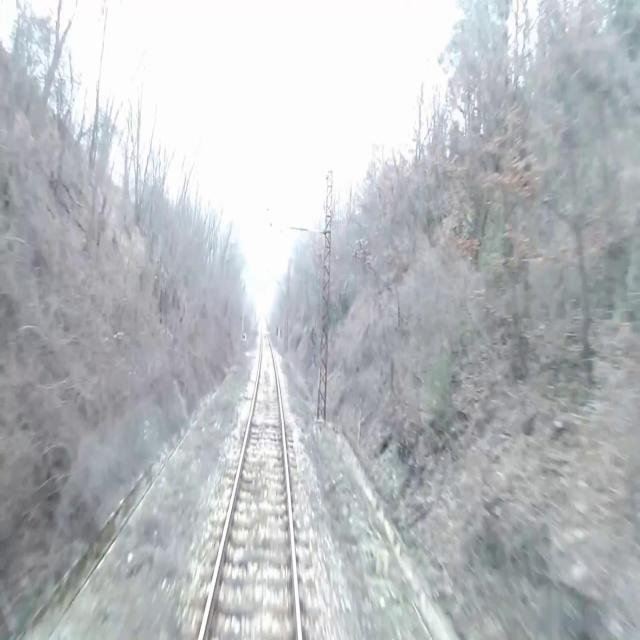rail-track: (203, 332, 296, 639)
